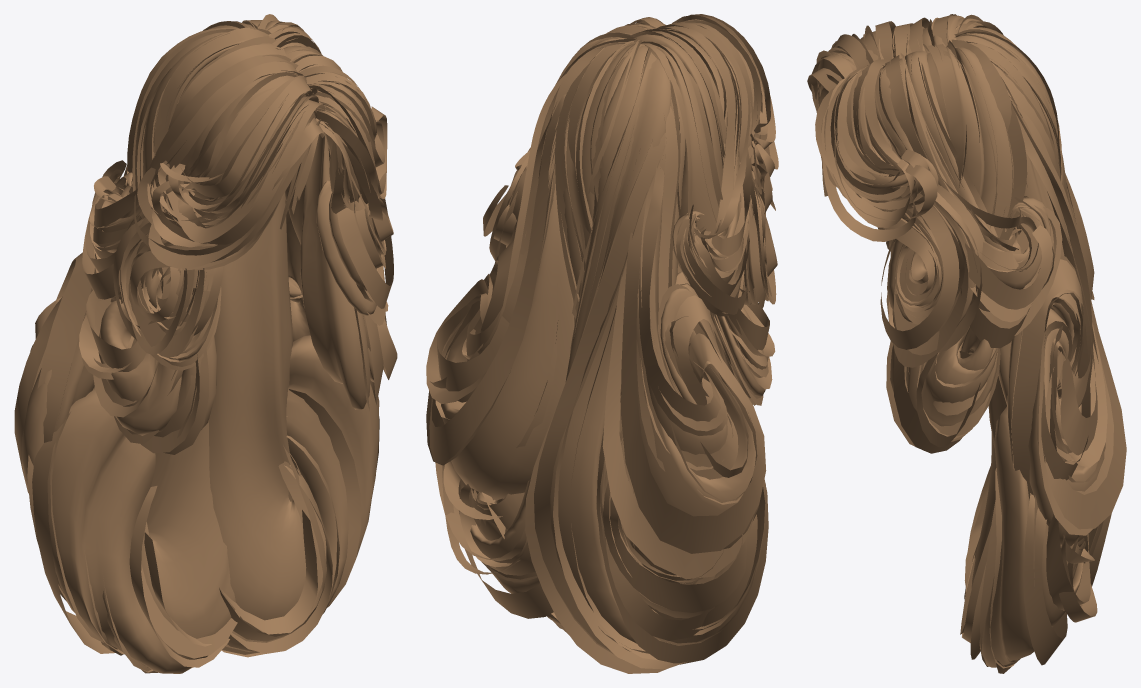
The model's file is hair-nadu.glb.
3 renders of one model, left to right at view 1: azimuth 30°, elevation 25°; view 2: azimuth 150°, elevation 25°; view 3: azimuth 270°, elevation 25°, orthographic. The views are drawn at different scales.
Visible parts, largest first — view 1: hair; view 2: hair; view 3: hair.
Boxes of the visible parts, box(x1,y1,x2,y2) form: hair: box(14, 14, 397, 673); hair: box(426, 14, 778, 673); hair: box(807, 14, 1126, 673).
Size of the model in its own units: 2.51 by 4.33 by 2.
